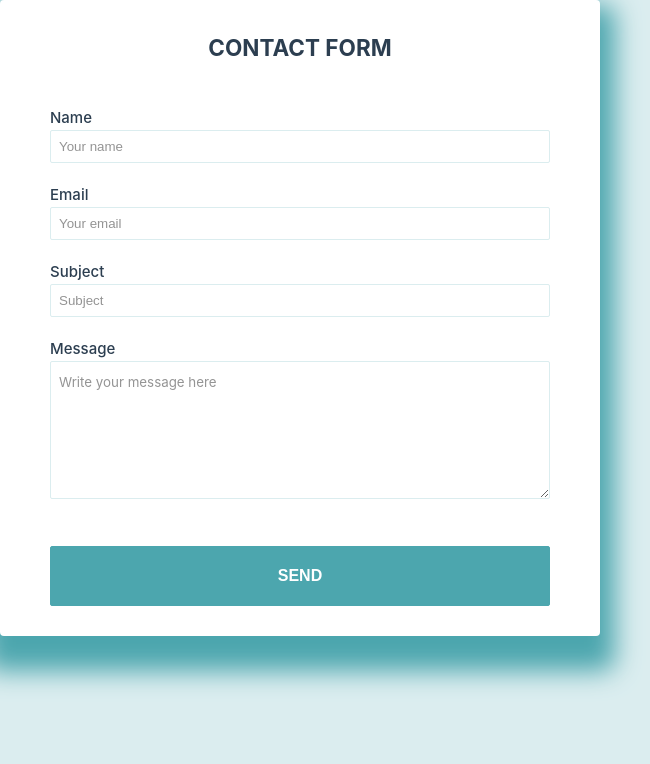
Test: HomeView.vue › gives empty email
Step 1. Clear the field labelled "Email" → (300, 224), box x1=50 y1=207 x2=550 y2=240
Step 2. Submit the form with test id "form"
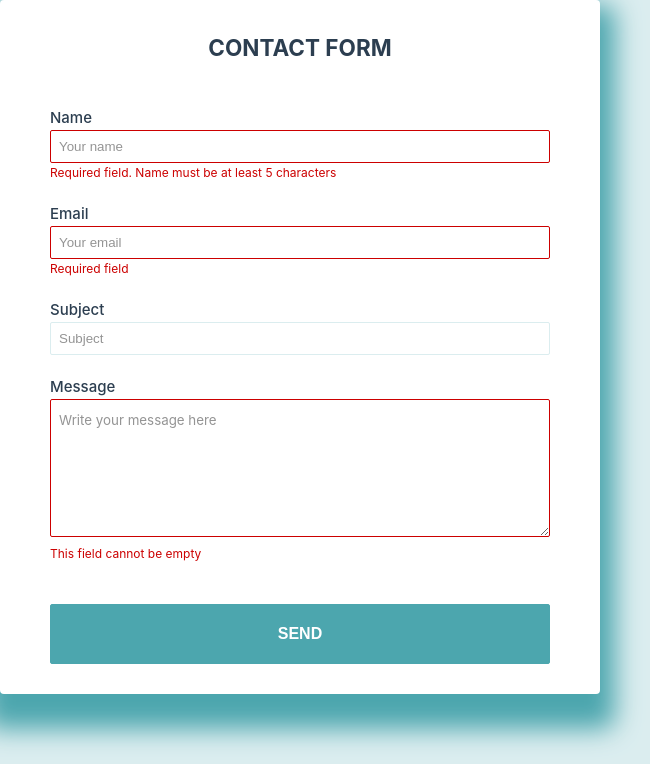
Expected: the text with class "error-message" reads "Required field", x1=50 y1=261 x2=128 y2=276
